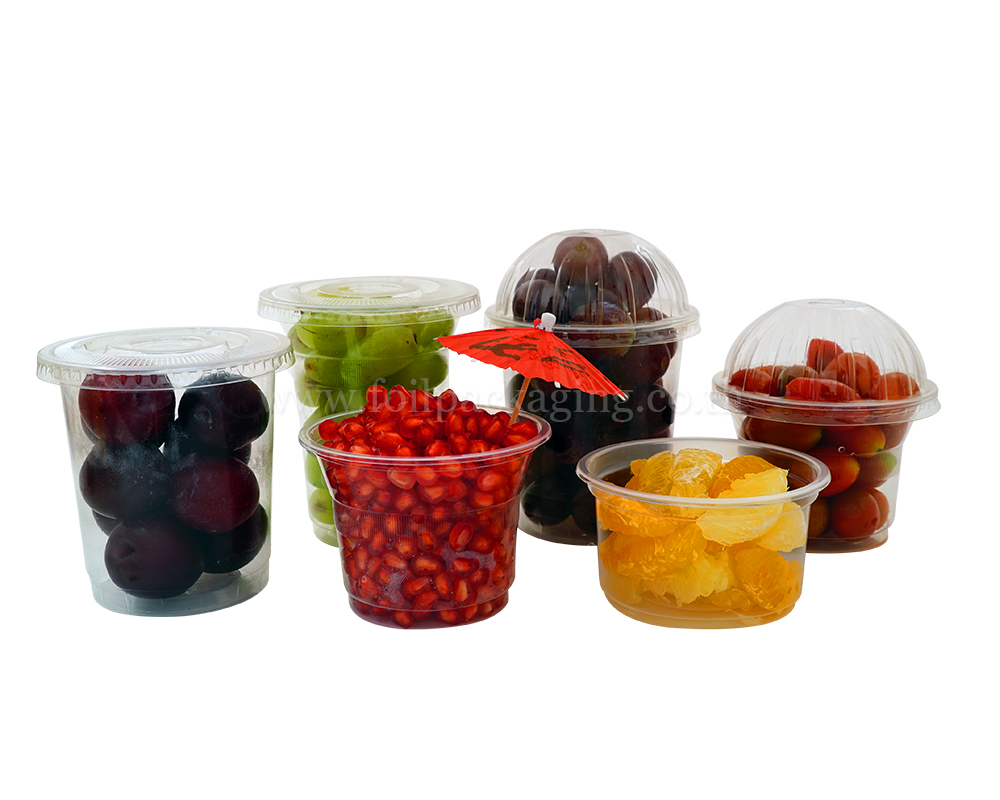plastic_glass: (28, 315, 299, 625)
